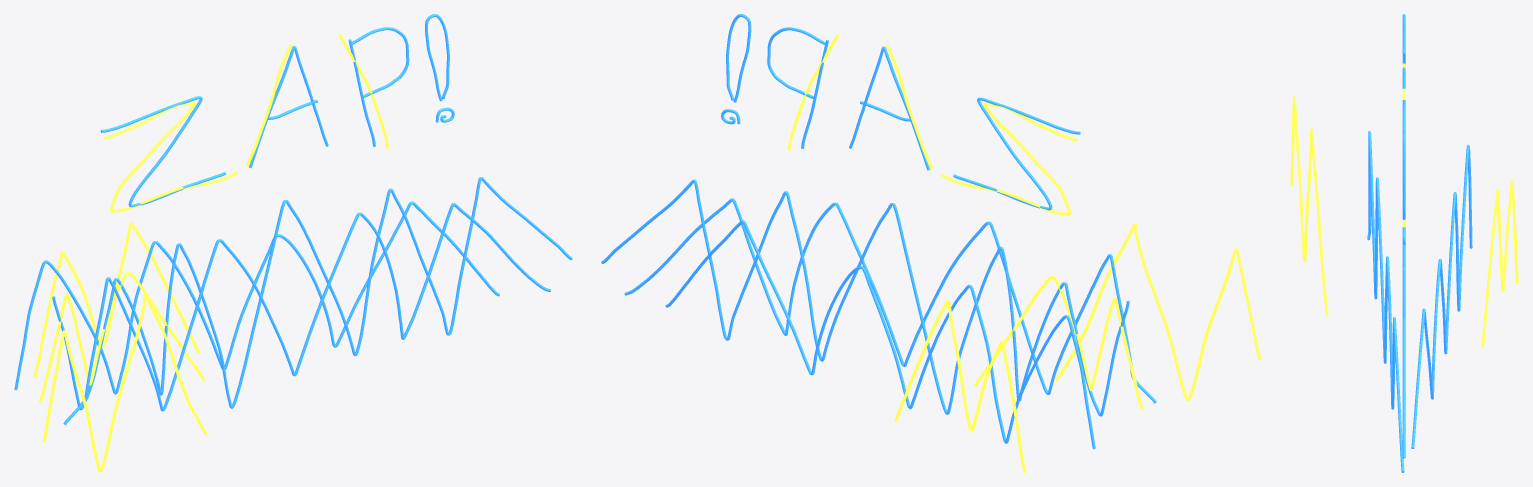
The model's file is zap-godot.glb.
The picture shows the model from 3 angles, left to right: view 1: azimuth 30°, elevation 25°; view 2: azimuth 150°, elevation 25°; view 3: azimuth 270°, elevation 25°; orthographic projection. The views are drawn at different scales.
Visible parts, largest first — view 1: LightningBolts, ZapText; view 2: LightningBolts, ZapText; view 3: LightningBolts, ZapText.
Part boxes in pixels (x1,y1,x2,y2): LightningBolts: [14, 177, 572, 472]; ZapText: [100, 14, 454, 212]; LightningBolts: [601, 179, 1261, 472]; ZapText: [721, 14, 1080, 215]; LightningBolts: [1290, 95, 1518, 472]; ZapText: [1402, 14, 1405, 244].
Bounding box in the file's own units: 13.21 × 7.49 × 4.72.
